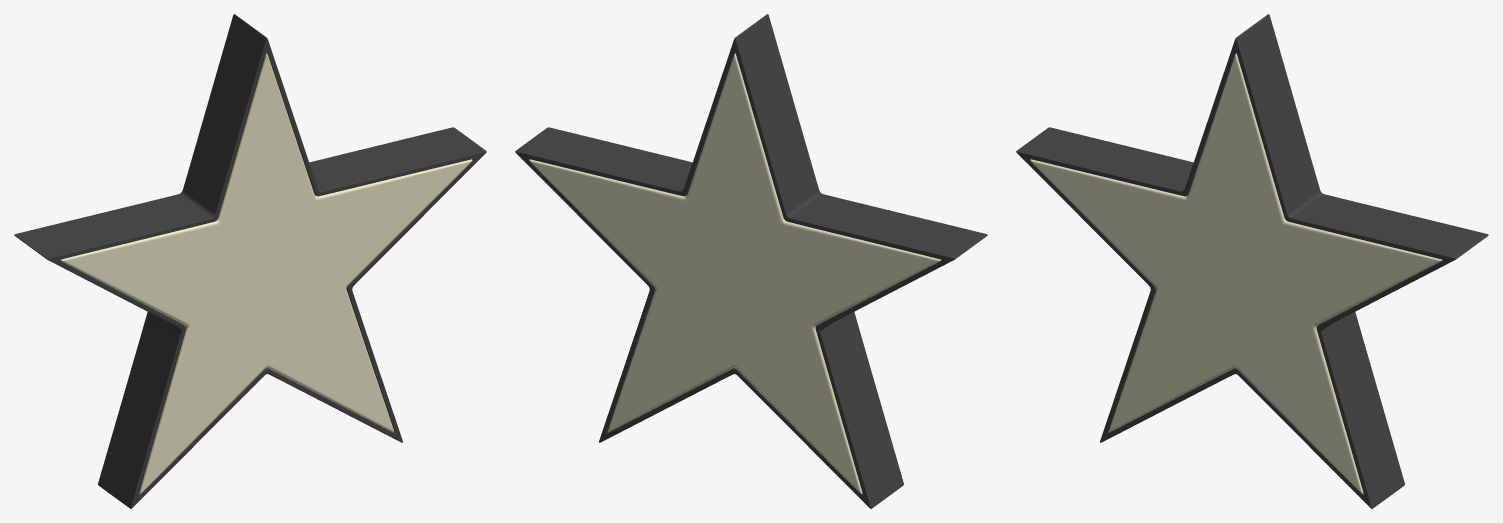
Rendered from symbols_star.obj.
The picture shows the model from 3 angles, left to right: view 1: azimuth 30°, elevation 25°; view 2: azimuth 150°, elevation 25°; view 3: azimuth 330°, elevation 25°; orthographic projection.
Parts seen in each view (by area): view 1: Star_fill, Star_border; view 2: Star_fill, Star_border; view 3: Star_fill, Star_border.
Boxes of the visible parts, x1,y1,x2,y2 form: Star_fill: (60,53,472,493); Star_border: (14,14,486,508); Star_fill: (529,53,941,493); Star_border: (515,14,987,508); Star_fill: (1030,53,1442,493); Star_border: (1016,14,1488,508).
Bounding box in the file's own units: 28.25 × 26.87 × 3.82.
Materials: 2 (2 with a texture image).
